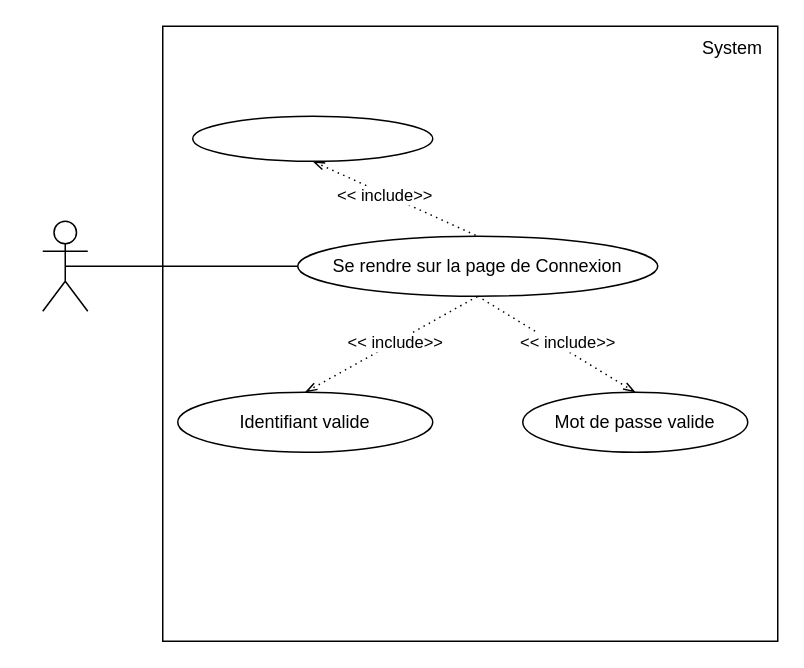
This 804x668 diagram has some shape labels left out. Here are the shapes that lost their labels. From the top down, the box of each, then its label:
(191, 115, 433, 161): Inscription
(41, 220, 88, 311): Utilisateur
